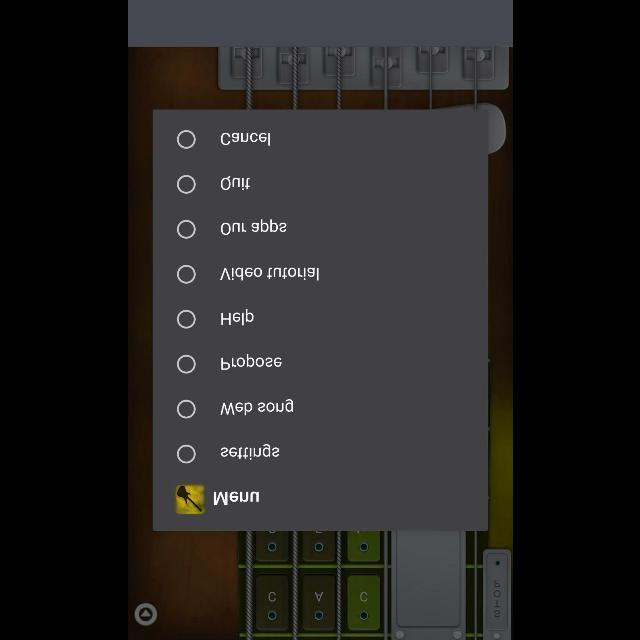checkbox: (176, 354, 194, 374), (176, 444, 194, 464), (176, 264, 194, 284), (176, 399, 194, 418), (176, 174, 194, 193), (176, 130, 194, 148), (176, 310, 194, 328), (176, 220, 194, 238)
image: (174, 484, 204, 514)
panel: (152, 110, 488, 530)
text: (220, 267, 318, 281), (220, 398, 292, 416), (220, 219, 286, 235), (220, 354, 282, 370), (220, 444, 278, 460), (220, 132, 270, 146), (212, 491, 258, 505), (220, 310, 253, 326), (220, 176, 250, 190)
